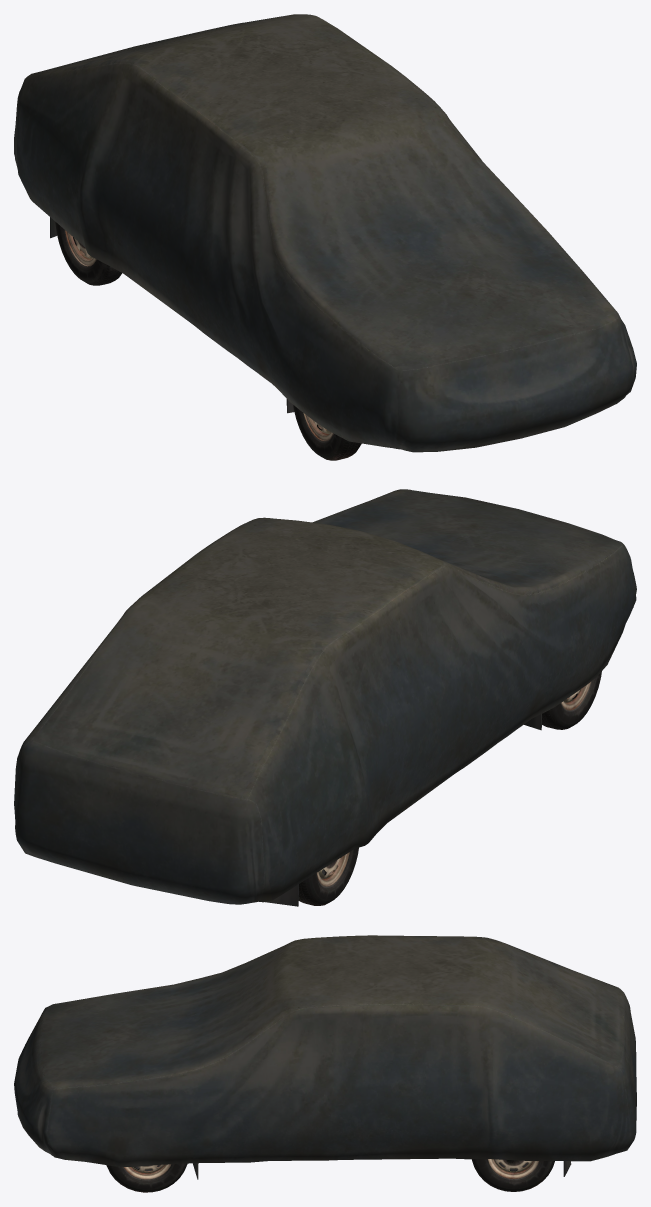
Rendered from covered_car.glb.
3 views of the same model, one above another, from view 1: azimuth 30°, elevation 25°; view 2: azimuth 150°, elevation 25°; view 3: azimuth 270°, elevation 25° (orthographic). The views are drawn at different scales.
Parts seen in each view (by area): view 1: covered_car, covered_car_wheel_03, covered_car_wheel_02; view 2: covered_car, covered_car_wheel_03, covered_car_wheel_02; view 3: covered_car, covered_car_wheel_04, covered_car_wheel_01.
Boxes of the visible parts, bbox=[...] form: covered_car: bbox=[14, 14, 636, 452]; covered_car_wheel_03: bbox=[55, 222, 121, 285]; covered_car_wheel_02: bbox=[293, 405, 361, 460]; covered_car: bbox=[14, 489, 636, 906]; covered_car_wheel_03: bbox=[298, 847, 358, 905]; covered_car_wheel_02: bbox=[542, 671, 601, 729]; covered_car: bbox=[14, 935, 636, 1179]; covered_car_wheel_04: bbox=[472, 1159, 554, 1191]; covered_car_wheel_01: bbox=[106, 1163, 187, 1192].
Size of the model in its own units: 1.79 by 1.41 by 4.38.
1 material, 1 textured.
